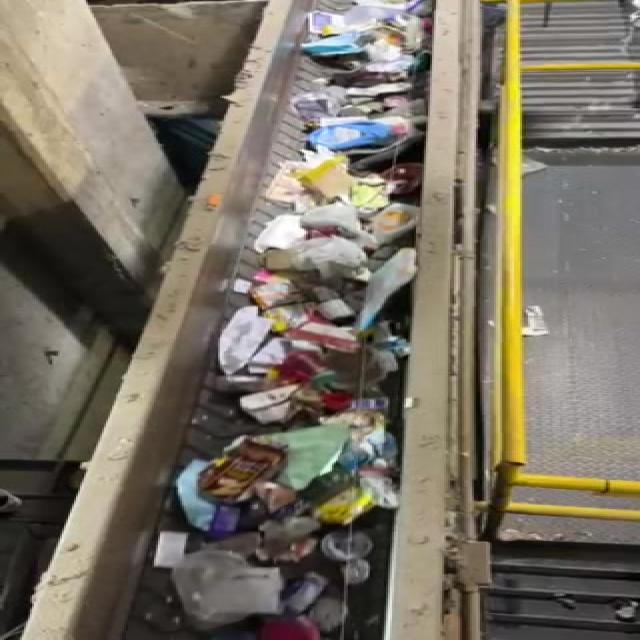paper: (188, 300, 281, 384), (234, 385, 336, 428), (132, 526, 191, 583)
pp: (196, 434, 282, 513), (294, 526, 388, 588)
ps: (198, 558, 284, 630)
